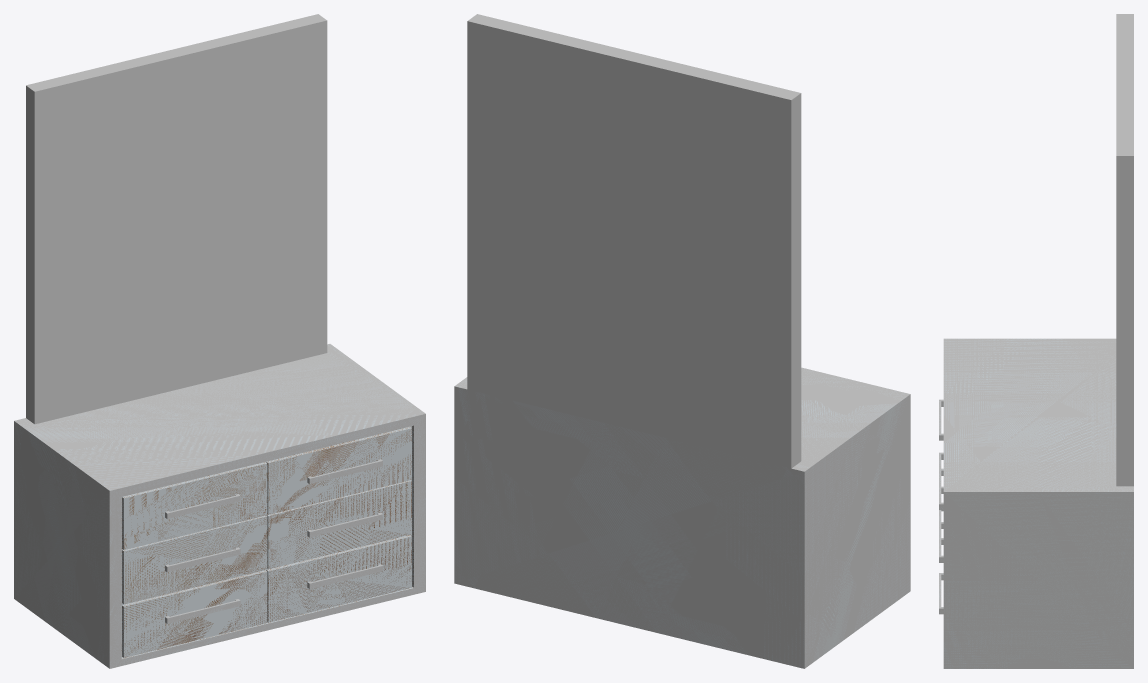
File: dressing table.fbx
The picture shows the model from 3 angles, left to right: view 1: azimuth 30°, elevation 25°; view 2: azimuth 150°, elevation 25°; view 3: azimuth 270°, elevation 25°; orthographic projection. The views are drawn at different scales.
Parts seen in each view (by area): view 1: group_6.001, group_7, group_6, group_7.006, group_7.001, group_7.003, group_7.004, group_7.005, group_7.002, group_7.007; view 2: group_6, group_7; view 3: group_7, group_6.
Part boxes in pixels (left/top/right/bottom): group_6.001: left=47, top=23, right=313, bottom=420; group_7: left=14, top=344, right=425, bottom=668; group_6: left=26, top=14, right=327, bottom=424; group_7.006: left=122, top=515, right=267, bottom=604; group_7.001: left=266, top=480, right=411, bottom=569; group_7.003: left=122, top=462, right=267, bottom=549; group_7.004: left=266, top=426, right=411, bottom=514; group_7.005: left=122, top=570, right=267, bottom=657; group_7.002: left=266, top=535, right=411, bottom=622; group_7.007: left=121, top=425, right=413, bottom=659; group_6: left=467, top=14, right=801, bottom=468; group_7: left=454, top=367, right=910, bottom=668; group_7: left=943, top=338, right=1133, bottom=668; group_6: left=1116, top=14, right=1133, bottom=486.
Size of the model in its own units: 180 by 277 by 96.51.
